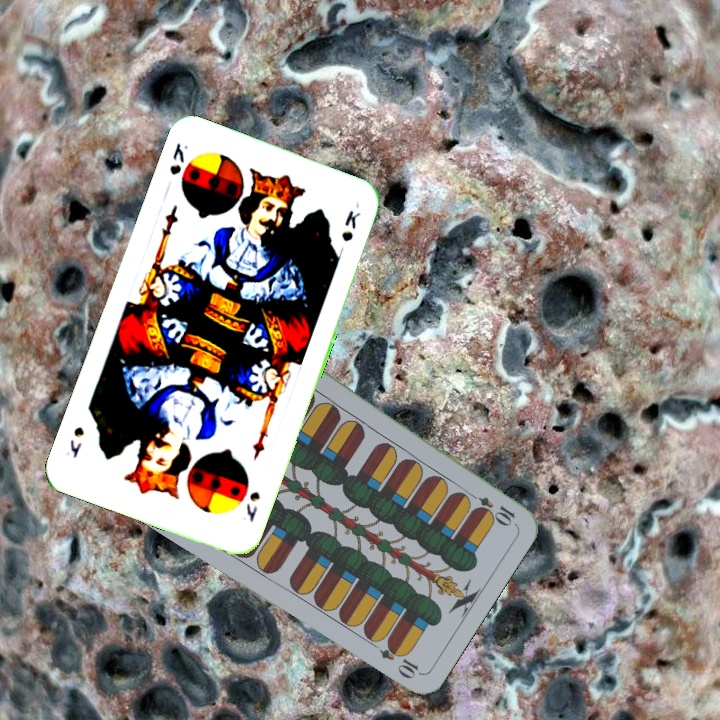E10: (462, 487, 518, 527)
SK: (165, 138, 191, 178), (242, 487, 263, 524)
